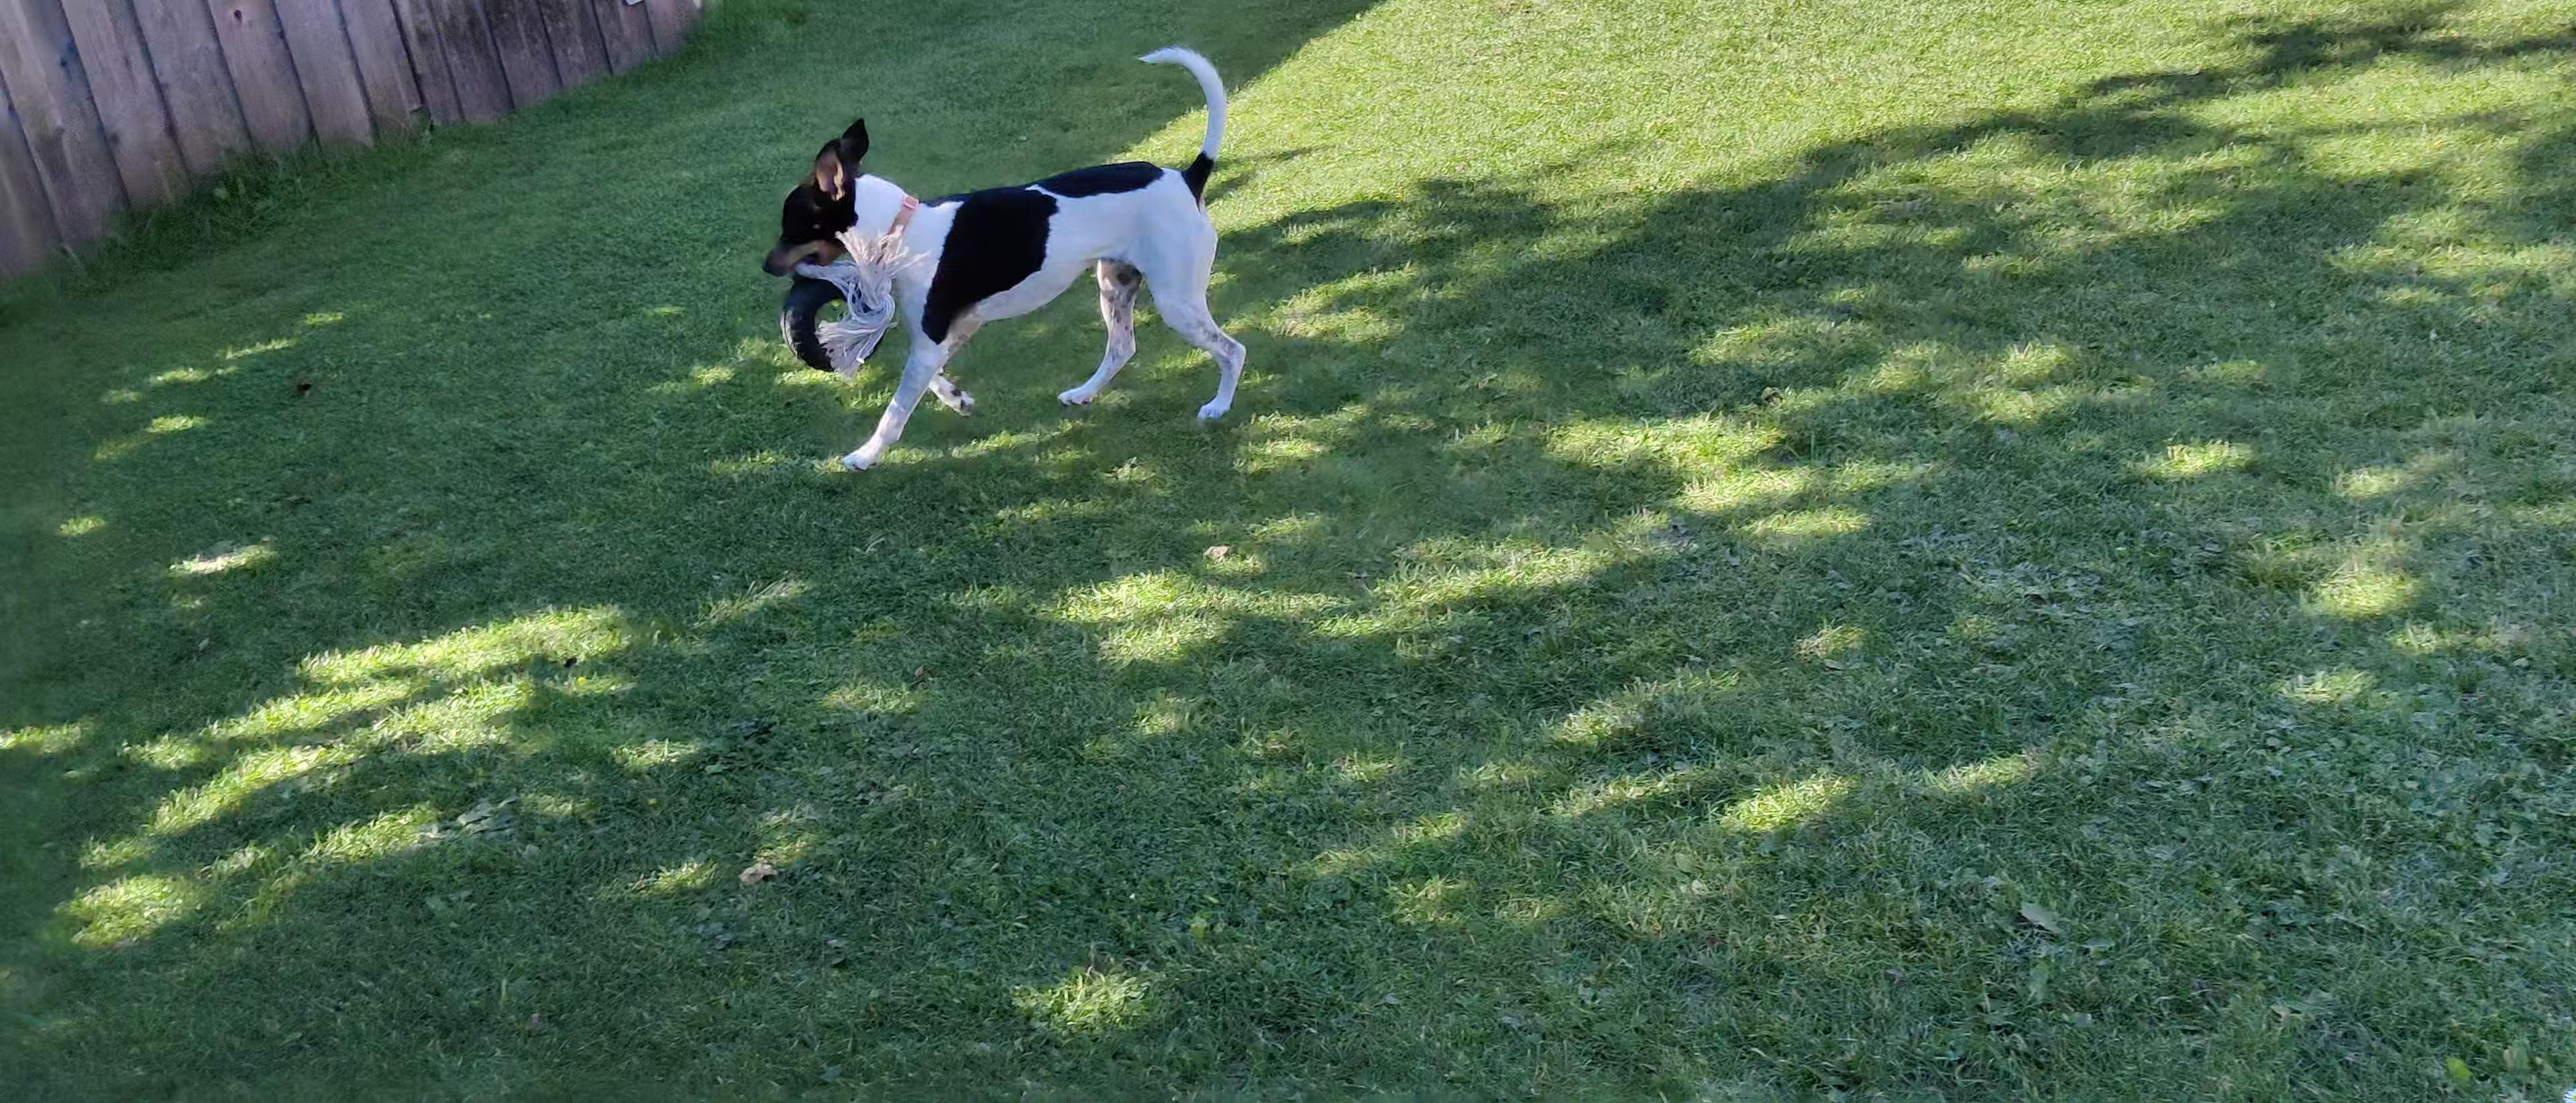Dog: (747, 30, 1252, 478)
